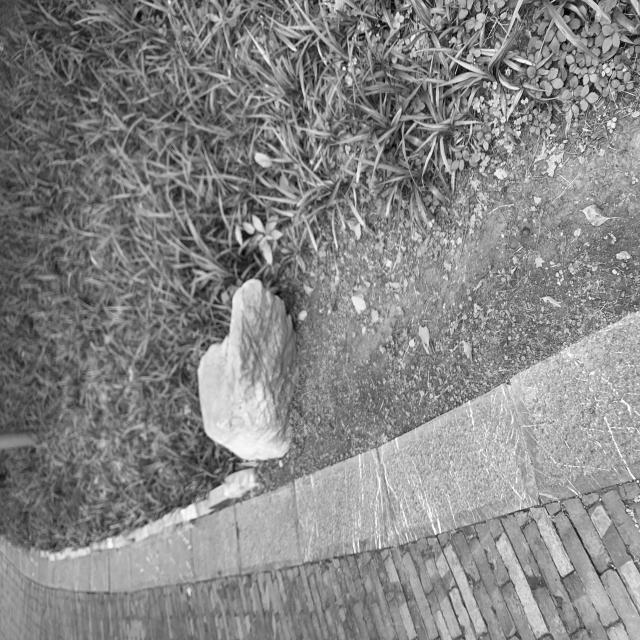Stone: (198, 279, 298, 459)
